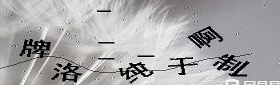chinese: (213, 47, 253, 76), (116, 57, 153, 84), (17, 37, 53, 64), (189, 23, 226, 49), (51, 61, 85, 84), (167, 56, 197, 79)
